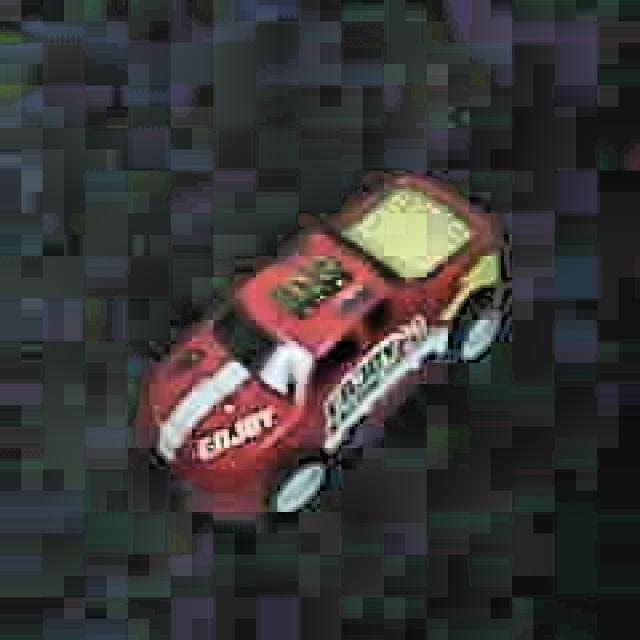car: (140, 176, 509, 522)
